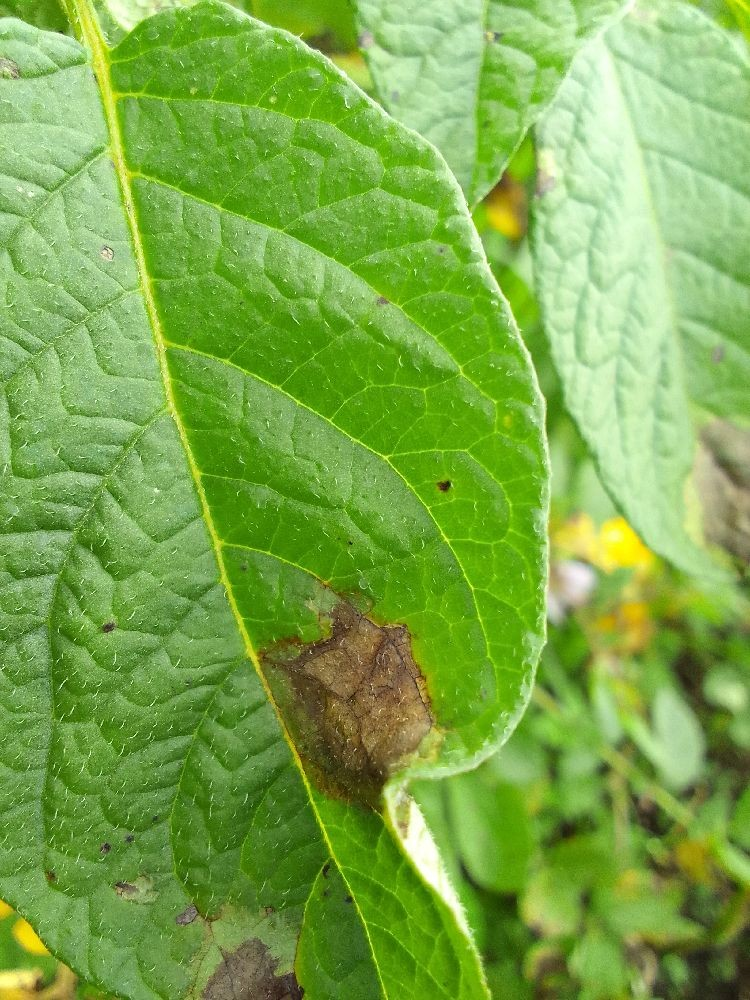late_blight: (239, 583, 453, 818), (597, 765, 750, 1000), (684, 432, 750, 602), (189, 926, 316, 1000)
